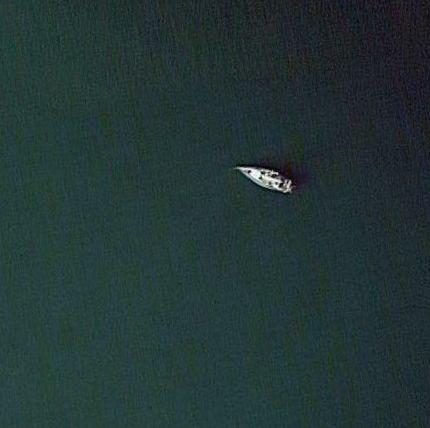Boat: (233, 161, 302, 196)
